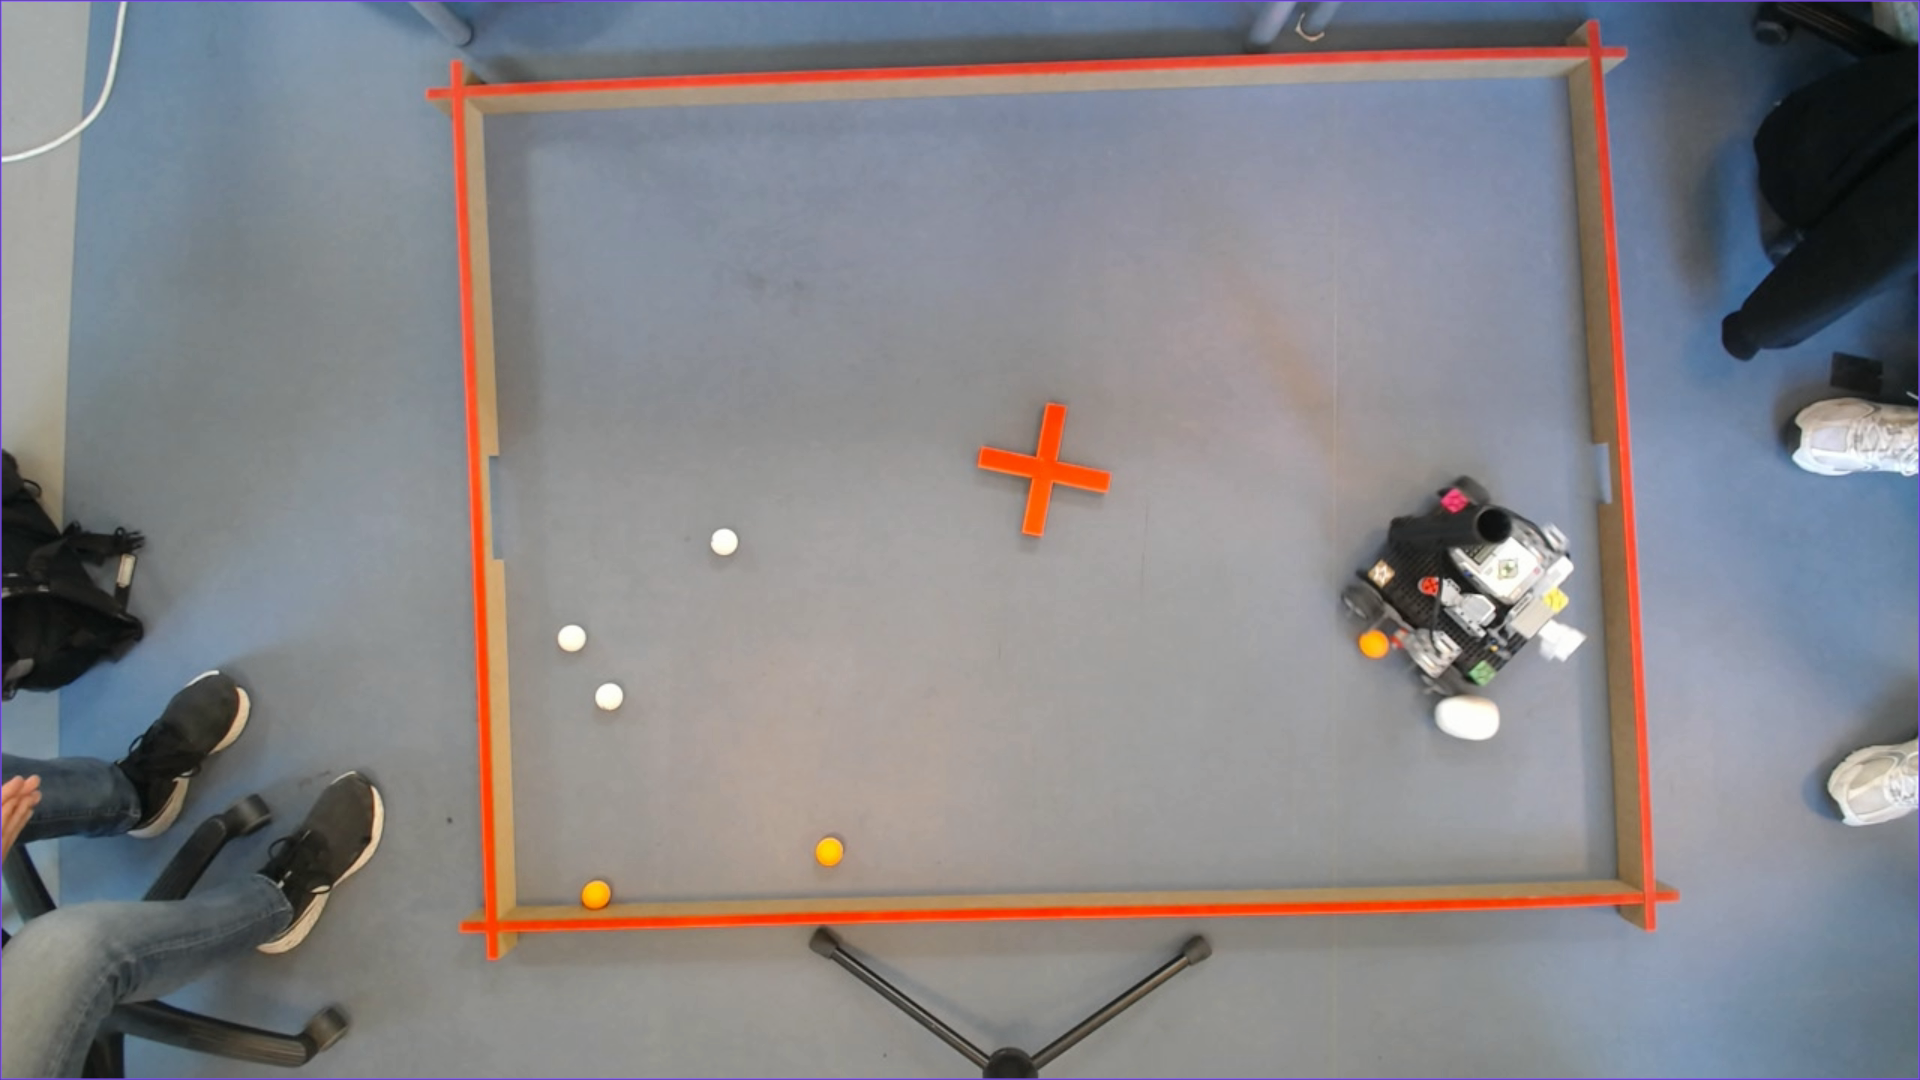ball_orange: (1357, 628, 1390, 658), (815, 835, 845, 866), (583, 880, 611, 913)
ball_white: (593, 680, 624, 713), (556, 625, 589, 655), (711, 527, 738, 556)
corner_brown: (1365, 559, 1396, 589)
corner_green: (1469, 661, 1495, 686)
corner_pink: (1443, 487, 1470, 514)
corner_yellow: (1543, 587, 1569, 612)
cross: (976, 398, 1116, 539)
egg: (1433, 694, 1502, 740)
playfield: (429, 41, 1687, 942)
